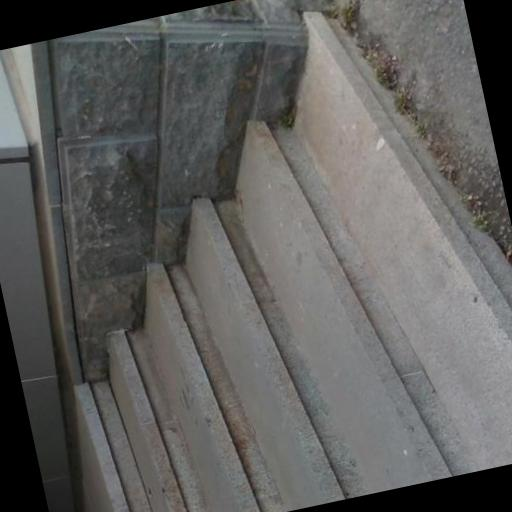stairs: (101, 13, 511, 511)
